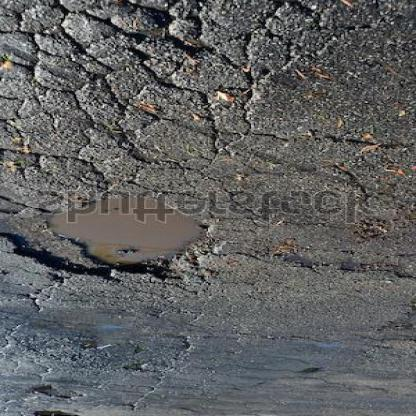pothole: (7, 194, 227, 289), (30, 387, 90, 402), (28, 410, 82, 416)
